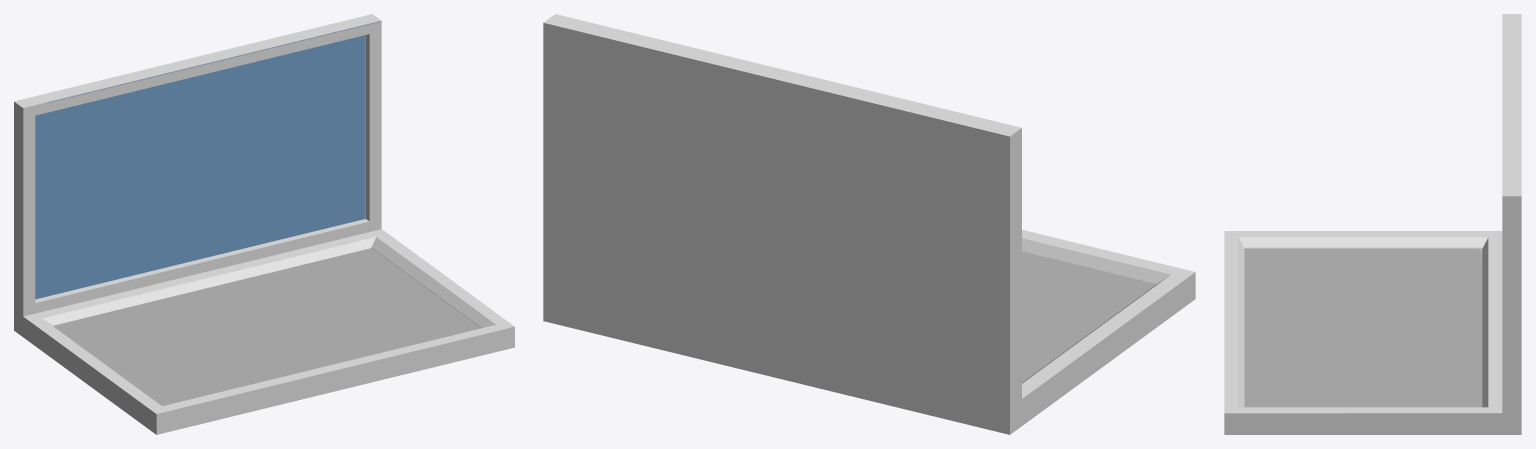
The model's file is Laptop.dae.
3 renders of one model, left to right at view 1: azimuth 30°, elevation 25°; view 2: azimuth 150°, elevation 25°; view 3: azimuth 270°, elevation 25°, orthographic. The views are drawn at different scales.
Parts seen in each view (by area): view 1: Cube; view 2: Cube; view 3: Cube.
Part boxes in pixels (box(x1,y1,x2,y2)): Cube: box(14, 14, 514, 434); Cube: box(543, 14, 1195, 434); Cube: box(1224, 14, 1521, 434).
Bounding box in the file's own units: 1.8 × 1.24 × 1.1.
Materials: 1 (1 with a texture image).
